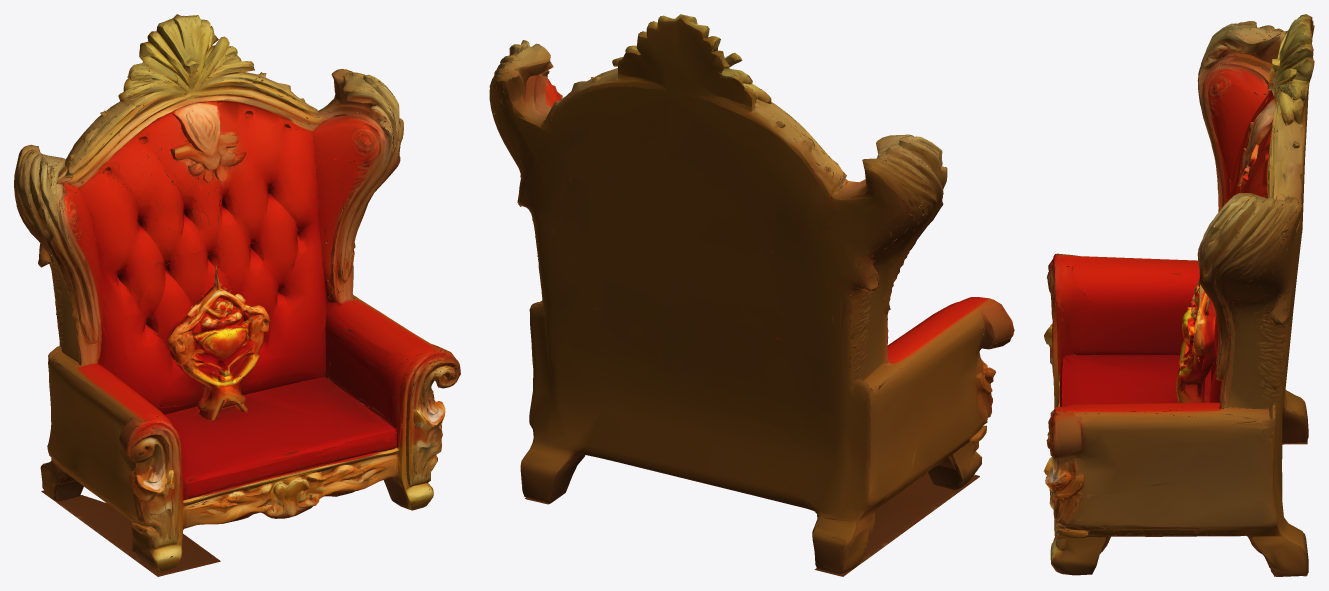
Rendered from hunyuan-throne.glb.
3 renders of one model, left to right at view 1: azimuth 30°, elevation 25°; view 2: azimuth 150°, elevation 25°; view 3: azimuth 270°, elevation 25°, orthographic. The views are drawn at different scales.
Visible parts, largest first — view 1: node_0; view 2: node_0; view 3: node_0.
Part boxes in pixels (x1=…): node_0: x1=14, y1=14, x2=460, y2=576; node_0: x1=489, y1=14, x2=1014, y2=576; node_0: x1=1043, y1=14, x2=1314, y2=576.
Bounding box in the file's own units: 0.81 × 0.9364 × 0.474.
Materials: 1 (1 with a texture image).
